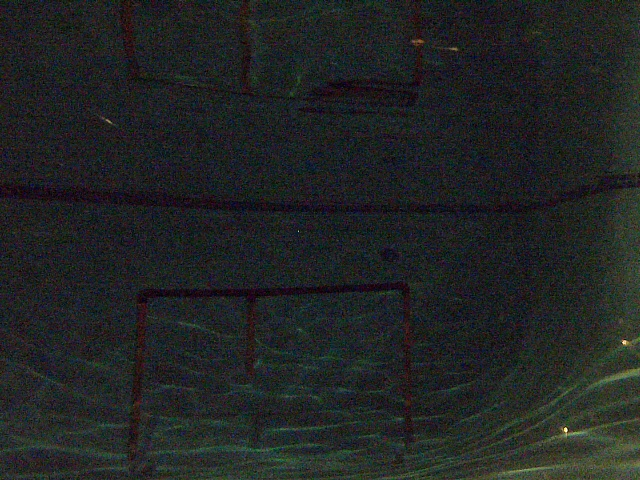Gate: (127, 297, 149, 463), (398, 290, 418, 447), (243, 297, 258, 371)
